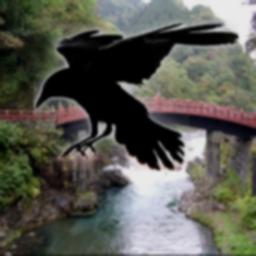Crow: (34, 20, 239, 170)
